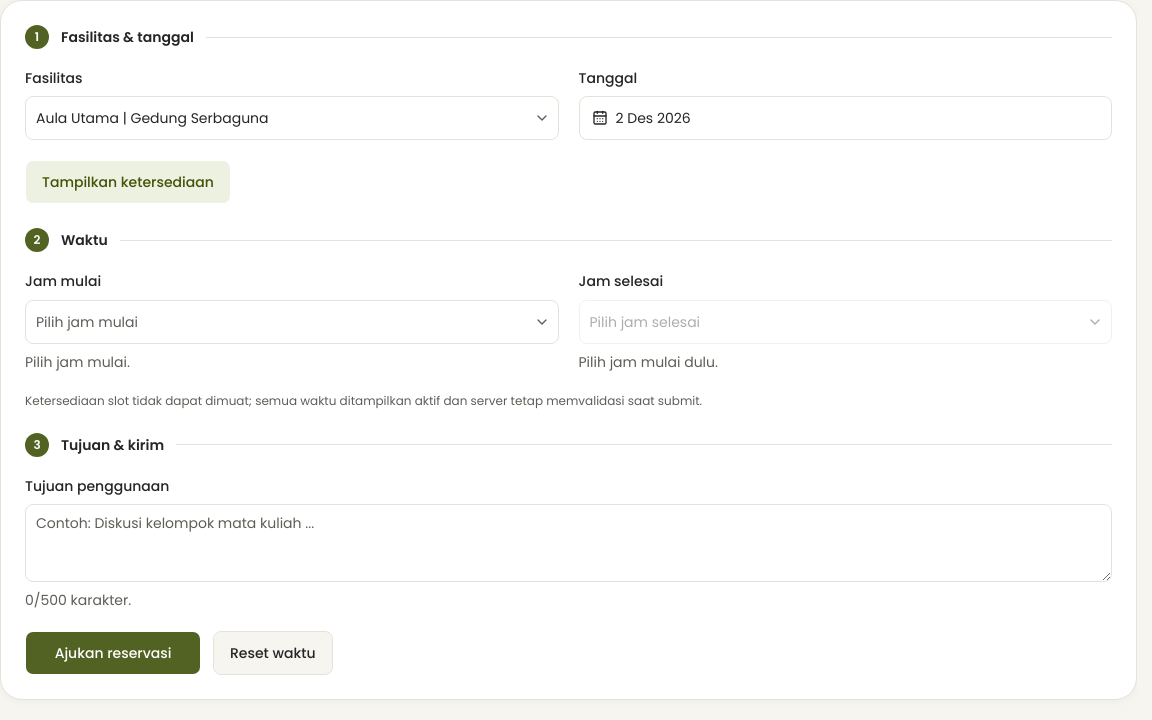
Test: ReservationForm sinkronisasi prop tanpa remount › membuang ringkasan galat lama saat tanggal berganti
Click the button "Ajukan reservasi" at point(113, 653), box [25, 631, 201, 675]
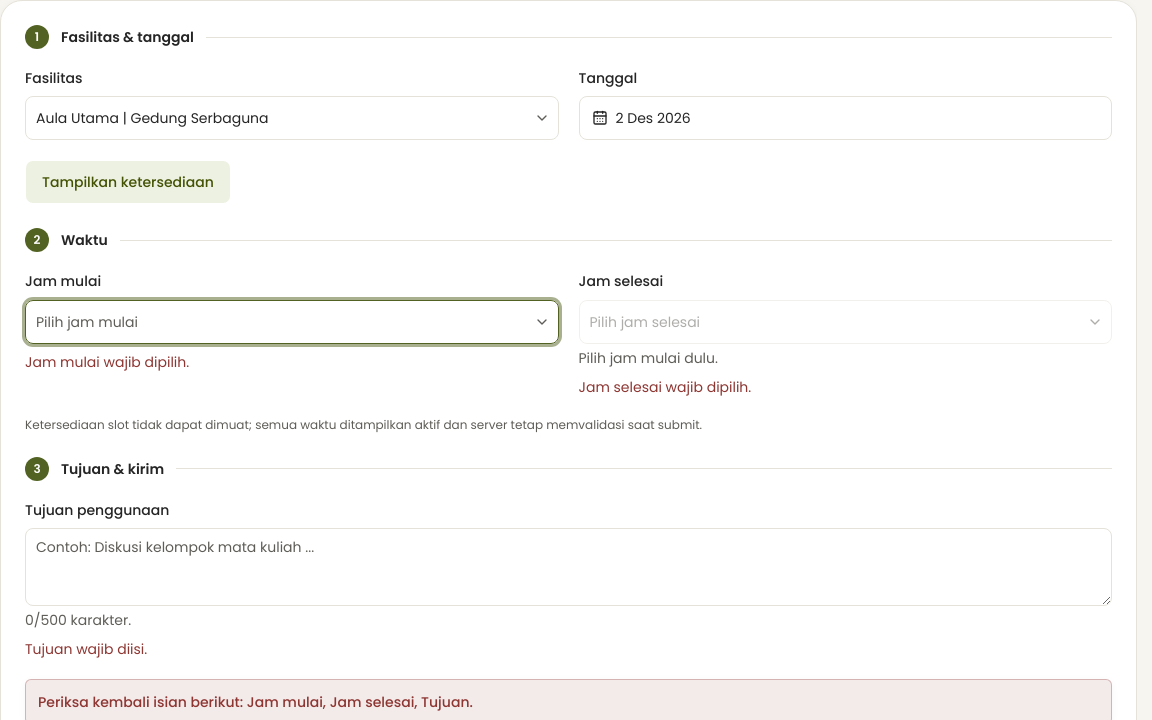
expect the text "Periksa kembali isian berikut" is shown: met, box [38, 692, 473, 712]
